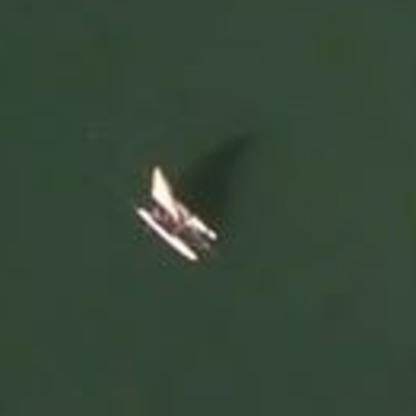ship: (129, 154, 219, 268)
